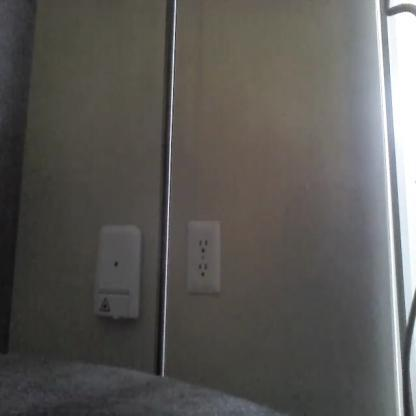OUTLET: (186, 220, 220, 293)
